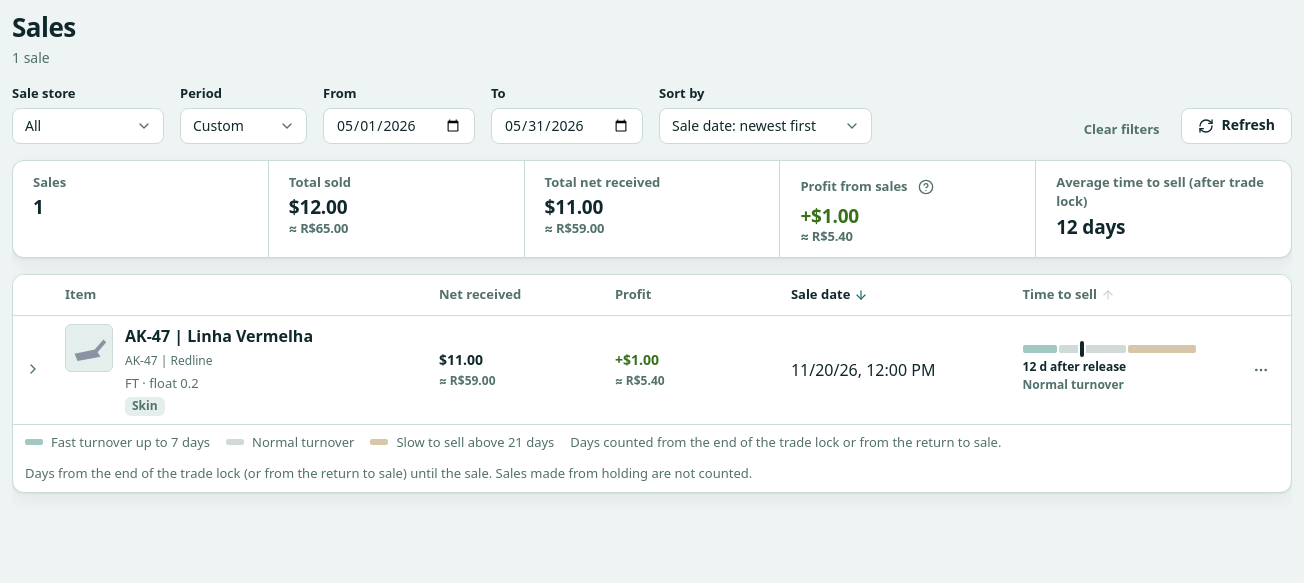
Scenario: filtros: o que vai para a API › personalizado: início depois do fim mostra o erro no campo e NÃO muda a URL; um intervalo válido muda
Expected: the text "AK-47 | Linha Vermelha" is shown, [125,324,313,348]
Type "2026-06-15" into the date field labelled "From" at point(399, 126), box [336,109,462,143]
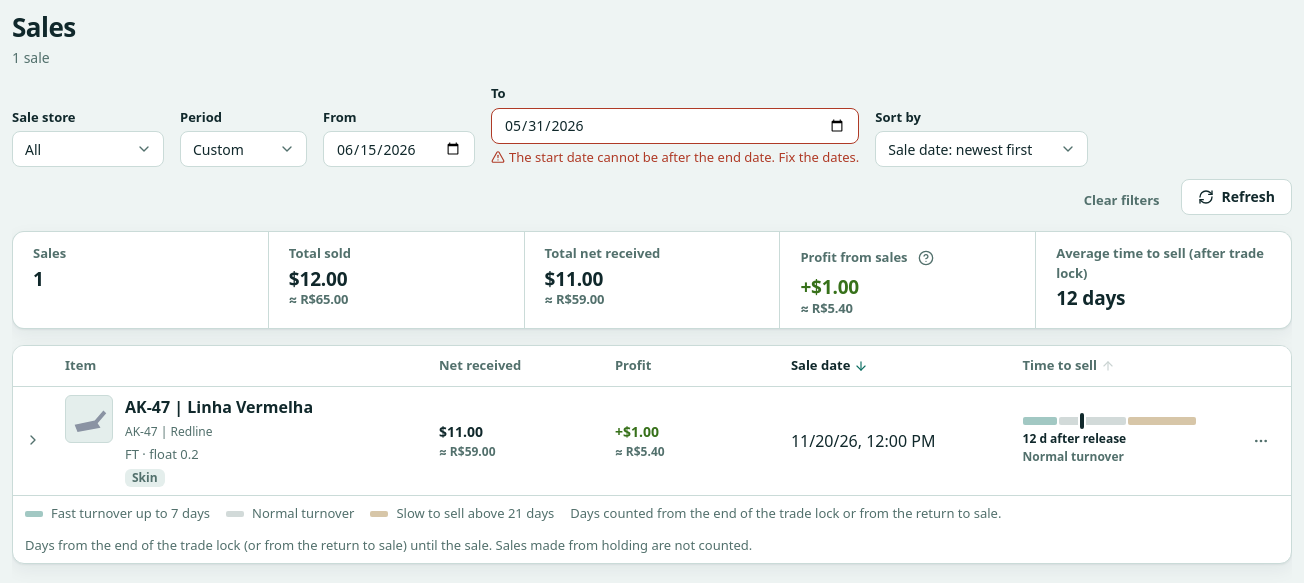
Expected: the text "The start date cannot be after the end date. Fix the dates." is shown, [509,148,859,167]
Type "2026-05-10" into the date field labelled "From" at point(399, 149), box [336,132,462,166]
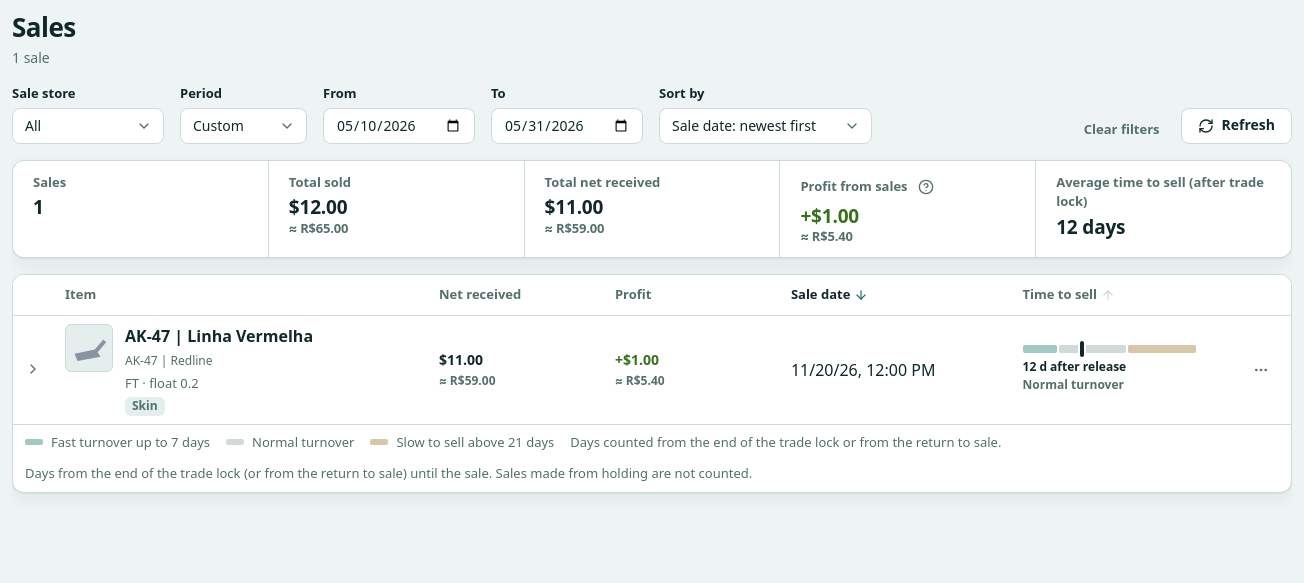
Expected: the text "start date cannot be after the end date" is gone
